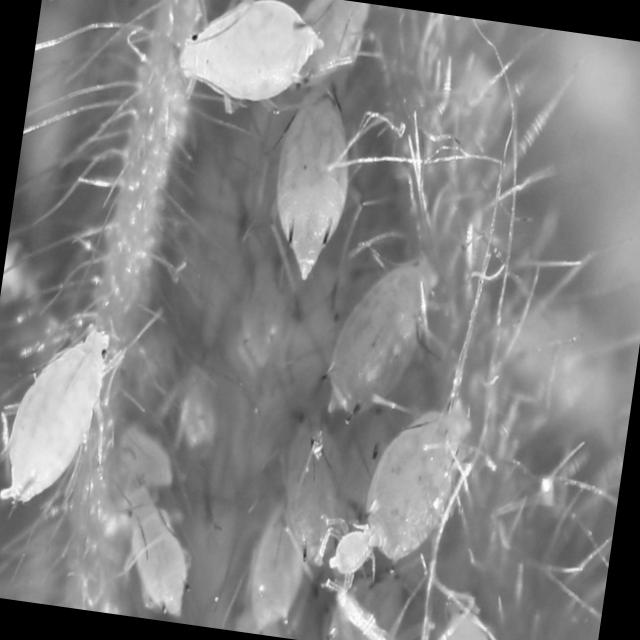Aphids: (324, 378, 506, 616), (0, 252, 133, 536), (152, 0, 322, 145), (254, 72, 366, 288), (314, 240, 440, 429), (264, 411, 359, 571), (105, 473, 208, 618)
